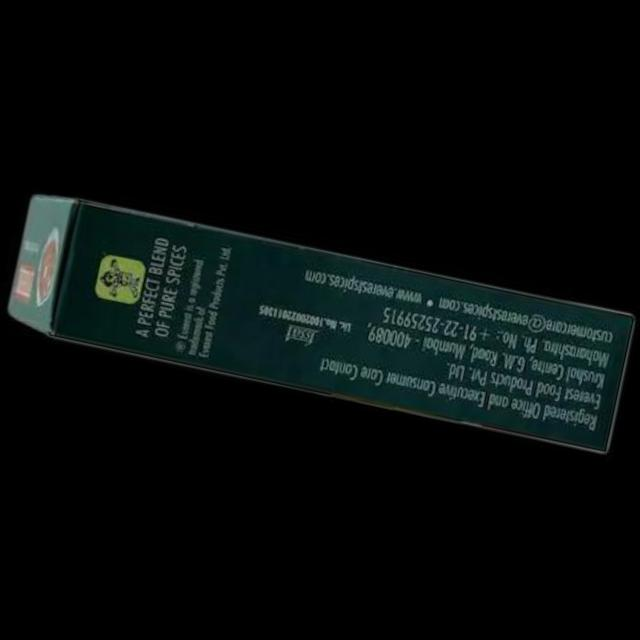Everest Pav Bhaji Masala 100 g: (4, 186, 636, 456)
